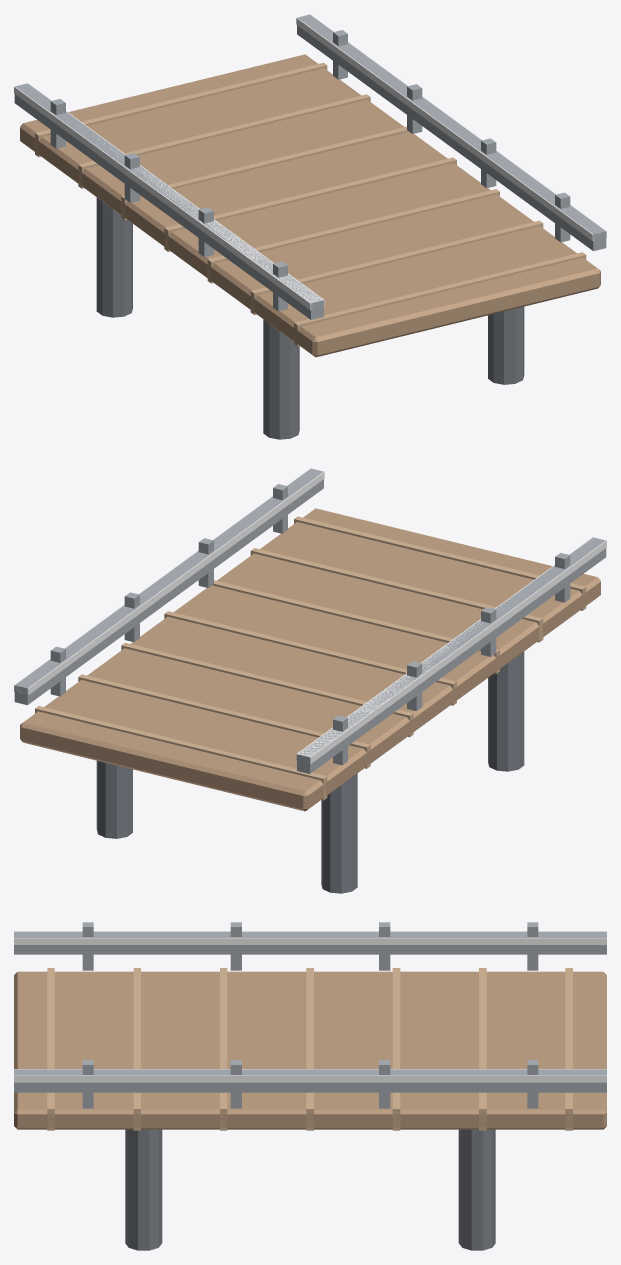
Rendered from bridge.glb.
3 views of the same model, one above another, from view 1: azimuth 30°, elevation 25°; view 2: azimuth 150°, elevation 25°; view 3: azimuth 270°, elevation 25° (orthographic).
Visible parts, largest first — view 1: main; view 2: main; view 3: main.
Boxes of the visible parts, x1,y1,x2,y2 form: main: [14, 14, 606, 439]; main: [14, 468, 606, 893]; main: [14, 922, 606, 1250].
Size of the model in its own units: 0.925 by 0.58 by 1.6.
